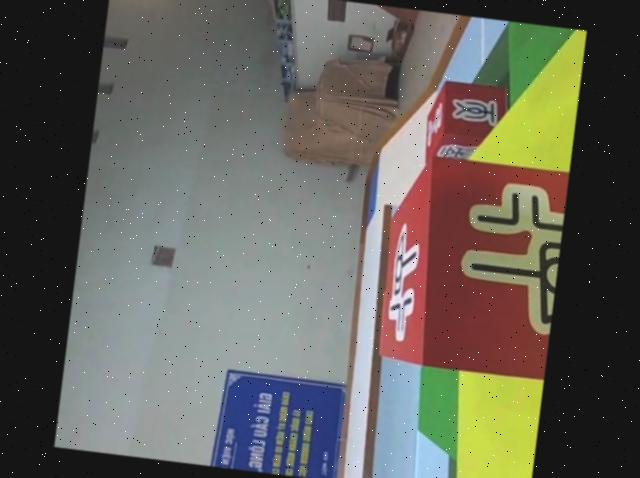R2 Fake: (419, 77, 512, 172)
R2 Real: (367, 147, 570, 381)
